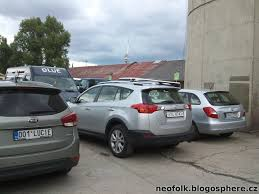licence-plate: (13, 129, 52, 138), (166, 111, 184, 117), (227, 112, 237, 118)
